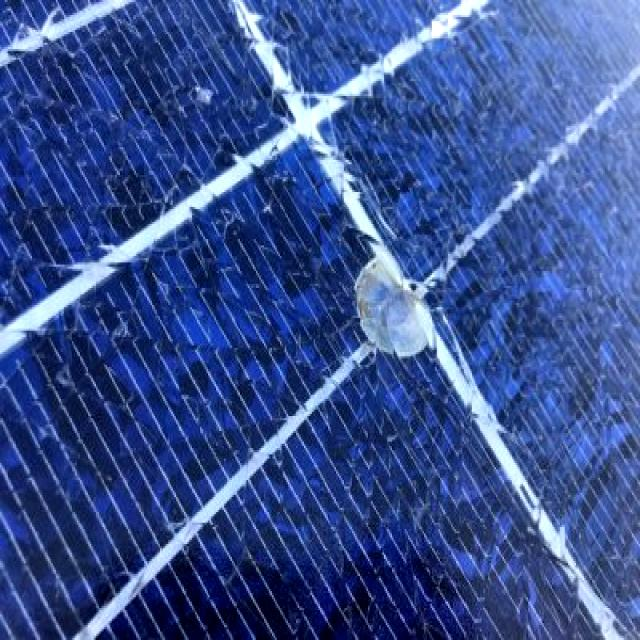hotspot: (334, 202, 501, 382)
